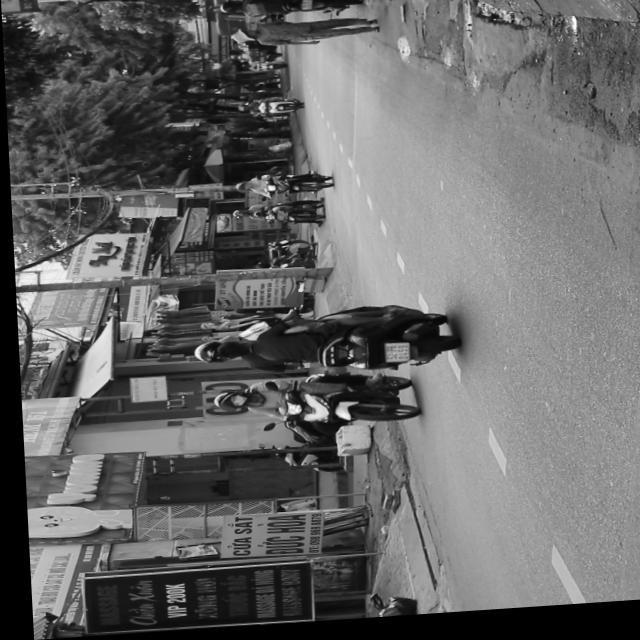helmet: (207, 395, 245, 417), (187, 346, 212, 367)
licenseplate: (185, 306, 454, 386), (204, 373, 414, 440)
motorcyclist: (209, 340, 250, 365)
nohelmet: (379, 349, 403, 368)
